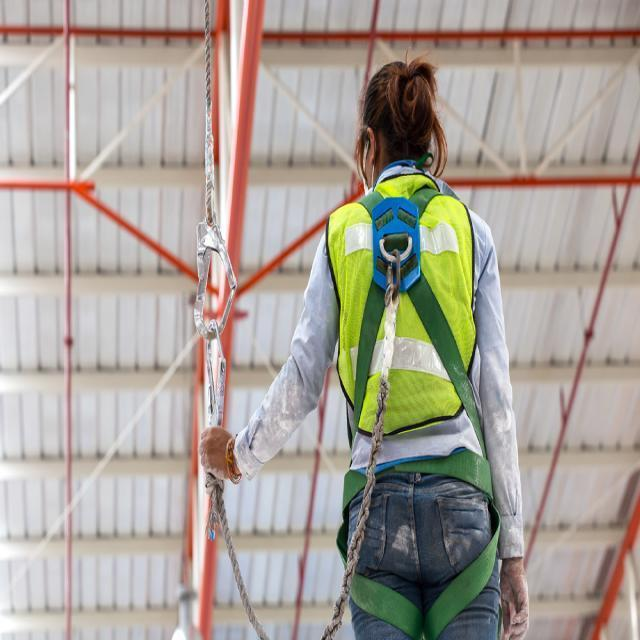Harness: (346, 185, 485, 452), (336, 450, 501, 640)
